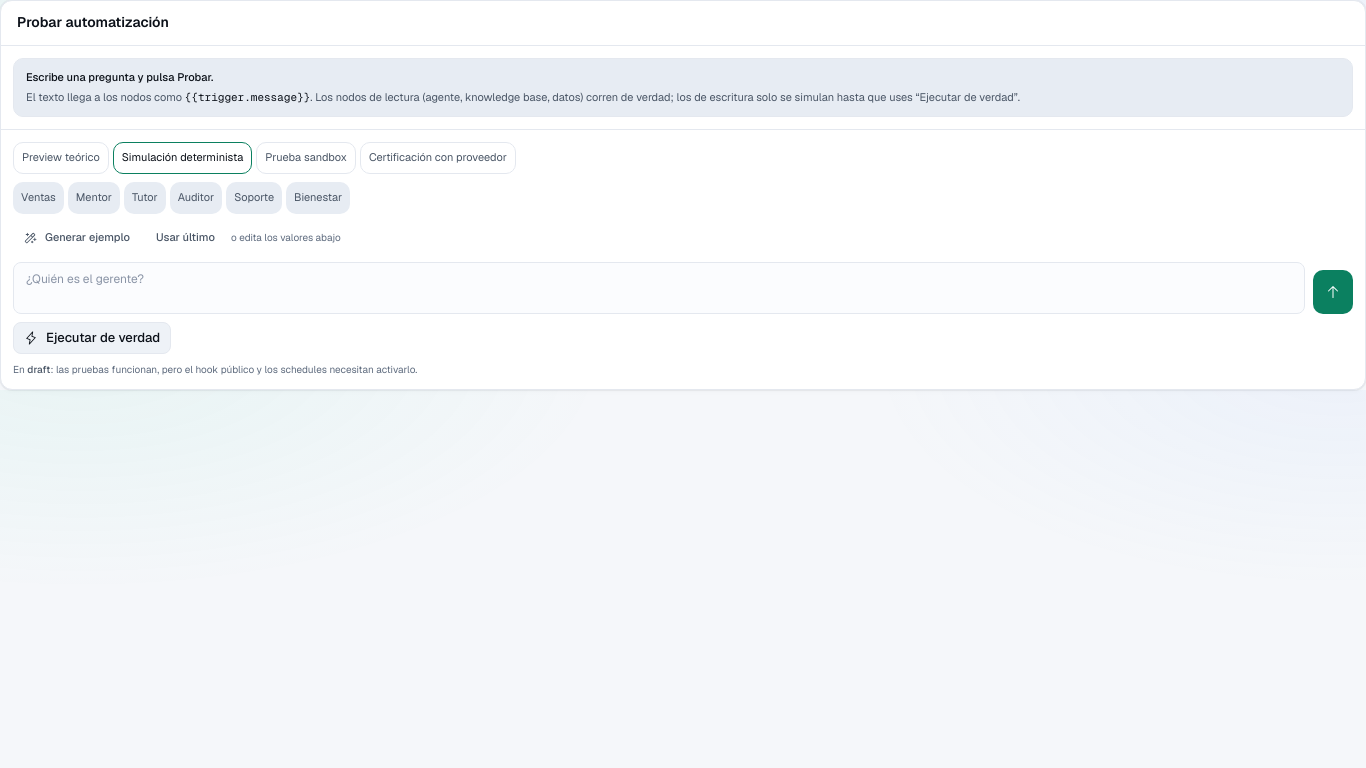
Scenario: WorkflowTestPanel (dock de prueba) › muestra el error real del agente en vez de tragárselo
Type "hola" into the text box with test id "wf-test-payload" at (659, 288), box [13,262,1305,314]
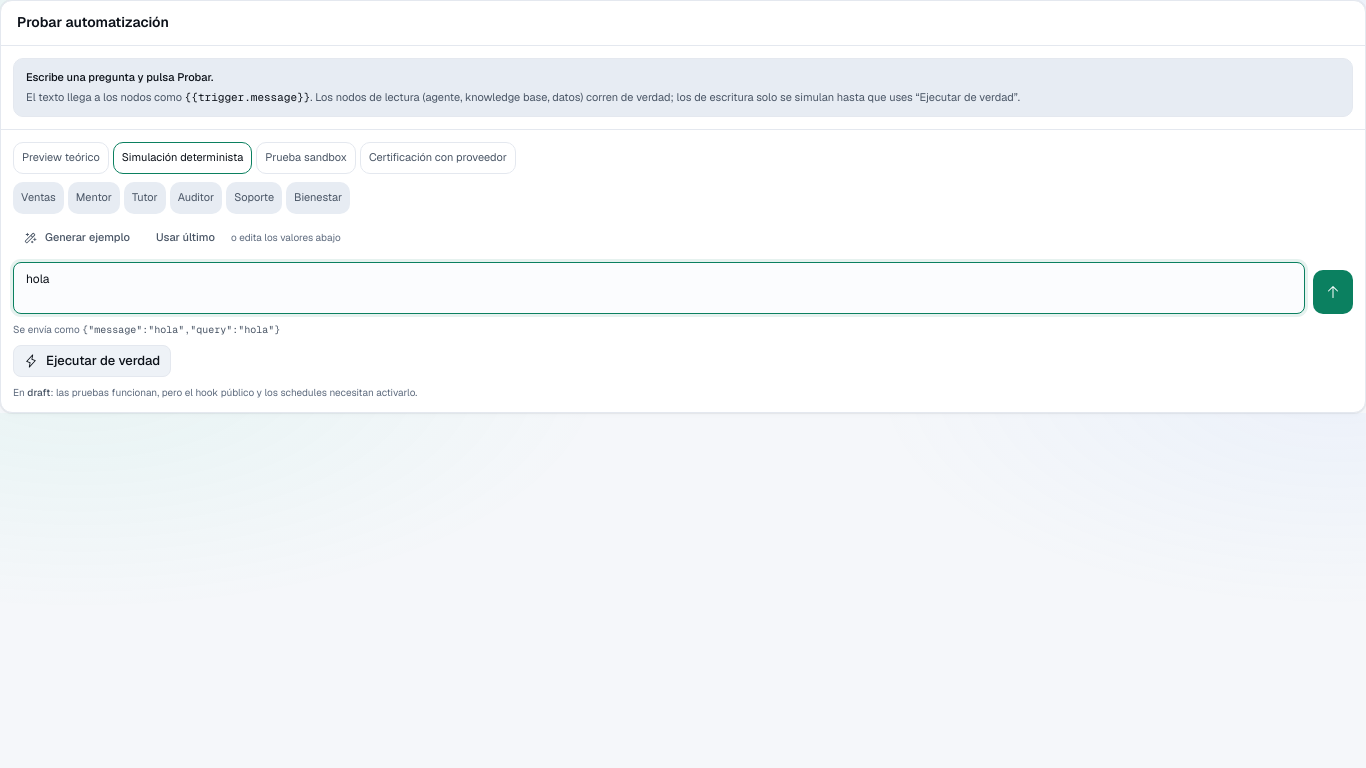
Click the button with test id "wf-run" at (92, 361), box [13,345,171,377]
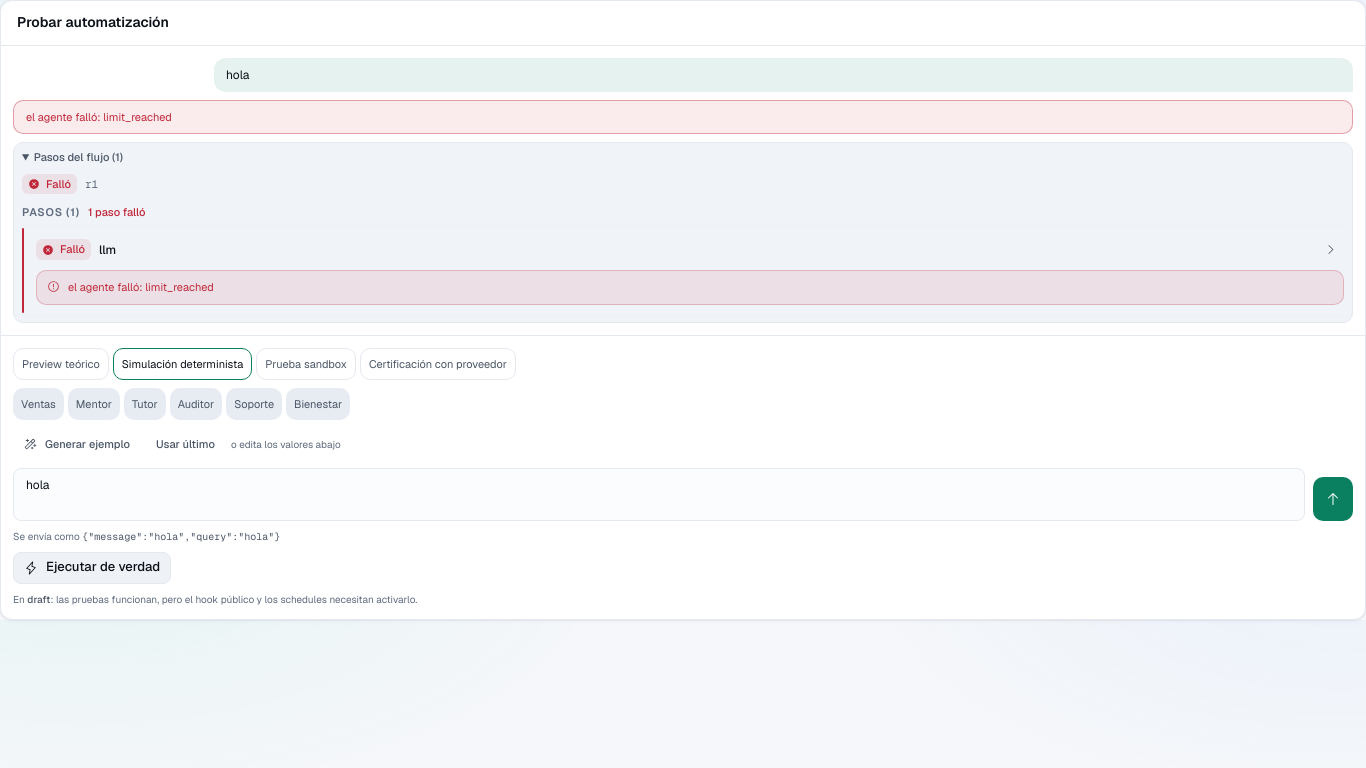
expect the text with test id "wf-chat-system" shows "limit_reached": met, box [26,110,172,124]
